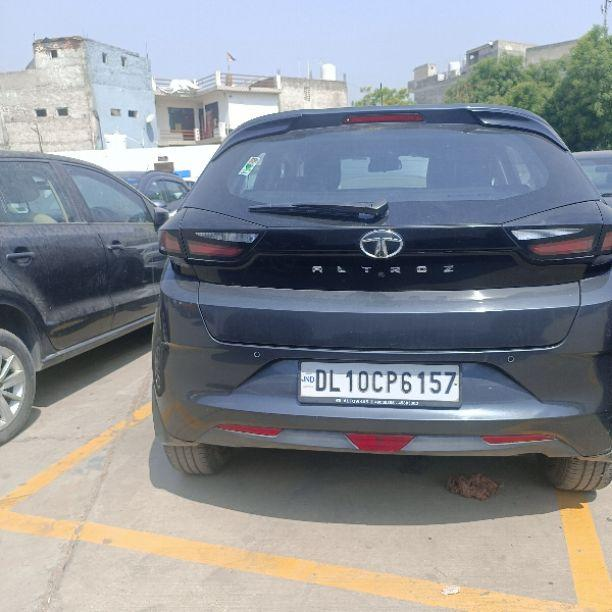license_plate: (296, 359, 462, 408)
